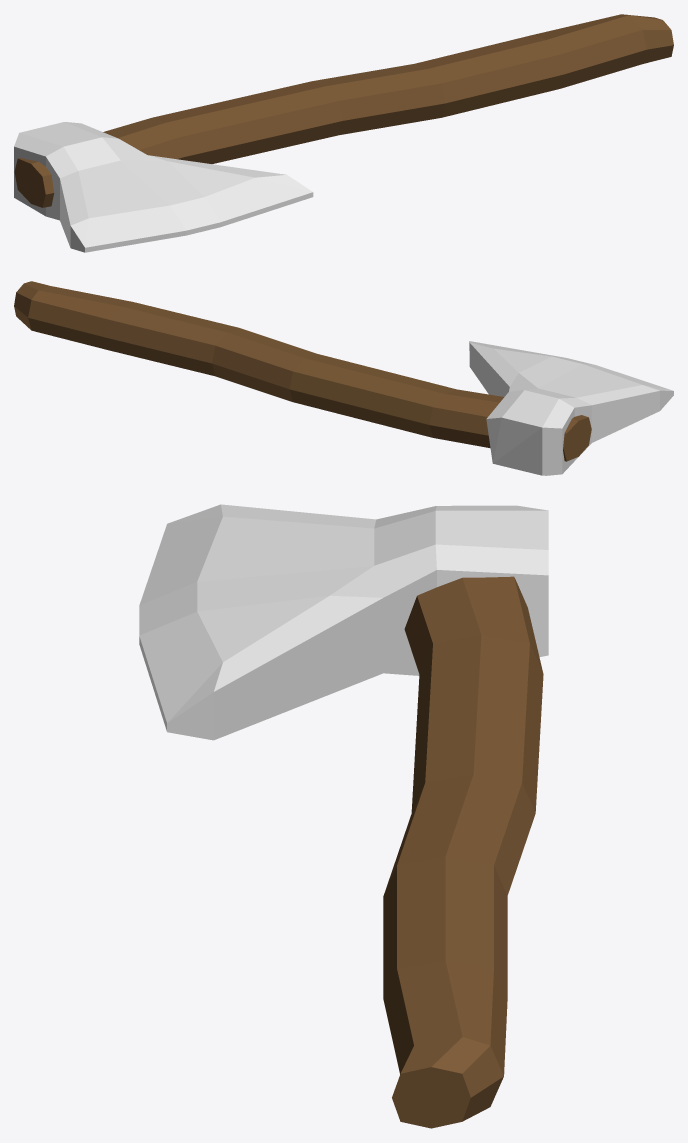
The model's file is Топор.fbx.
3 views of the same model, one above another, from view 1: azimuth 30°, elevation 25°; view 2: azimuth 150°, elevation 25°; view 3: azimuth 270°, elevation 25° (orthographic). The views are drawn at different scales.
Parts seen in each view (by area): view 1: Cube; view 2: Cube; view 3: Cube.
Part boxes in pixels (x1,y1,x2,y2): Cube: (14, 14, 673, 252); Cube: (14, 281, 673, 475); Cube: (139, 504, 548, 1128).
Bounding box in the file's own units: 398 × 41.75 × 121.
